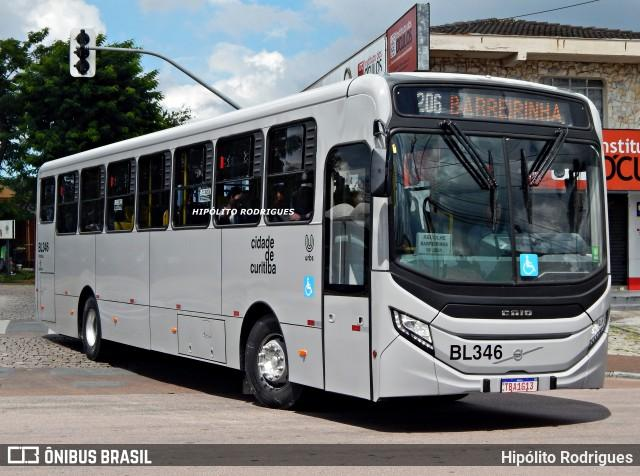BARREIRINHA: (443, 89, 569, 127)
